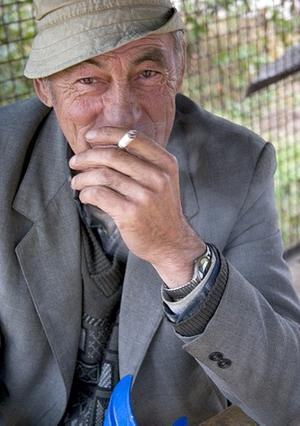person: (2, 3, 300, 425)
